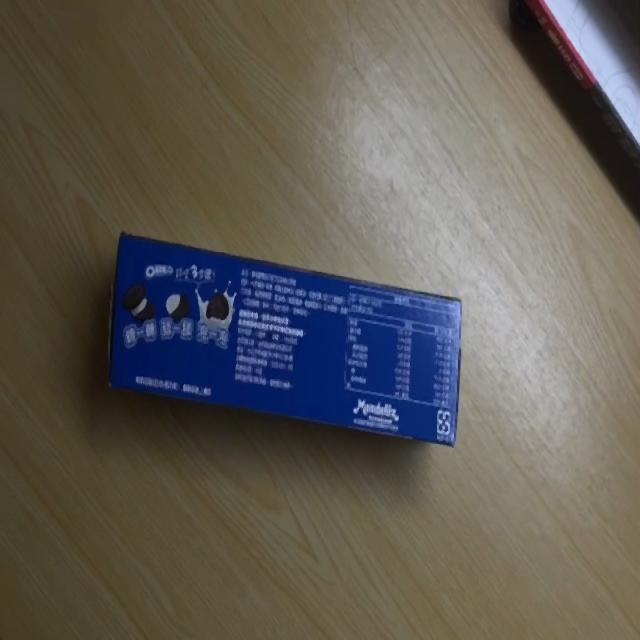Oreo: (106, 233, 463, 452)
